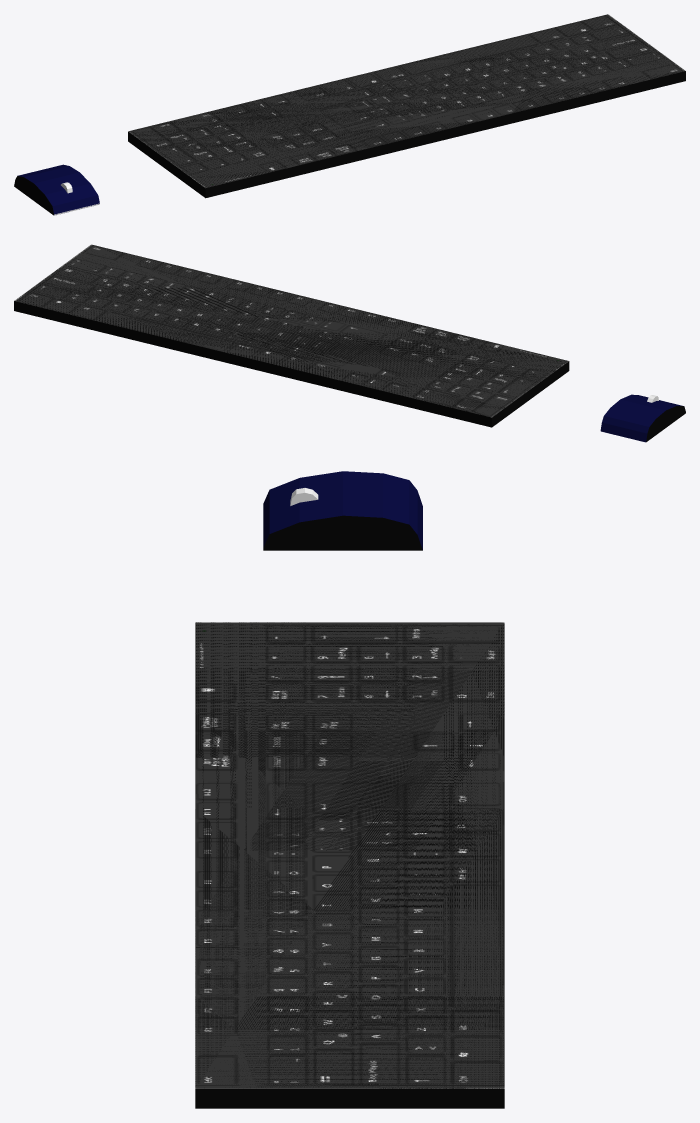
The model's file is Teclado e Mouse.dae.
3 renders of one model, top to bottom at view 1: azimuth 30°, elevation 25°; view 2: azimuth 150°, elevation 25°; view 3: azimuth 270°, elevation 25°, orthographic. The views are drawn at different scales.
Visible parts, largest first — view 1: instance_0 (×4); view 2: instance_0 (×4); view 3: instance_0 (×4).
Boxes of the visible parts, x1,y1,x2,y2 form: instance_0 (×4): (14, 14, 685, 215); instance_0 (×4): (14, 244, 685, 442); instance_0 (×4): (195, 471, 504, 1108).
Size of the model in its own units: 25.2 by 5.51 by 0.8612.
5 materials, 1 textured.
